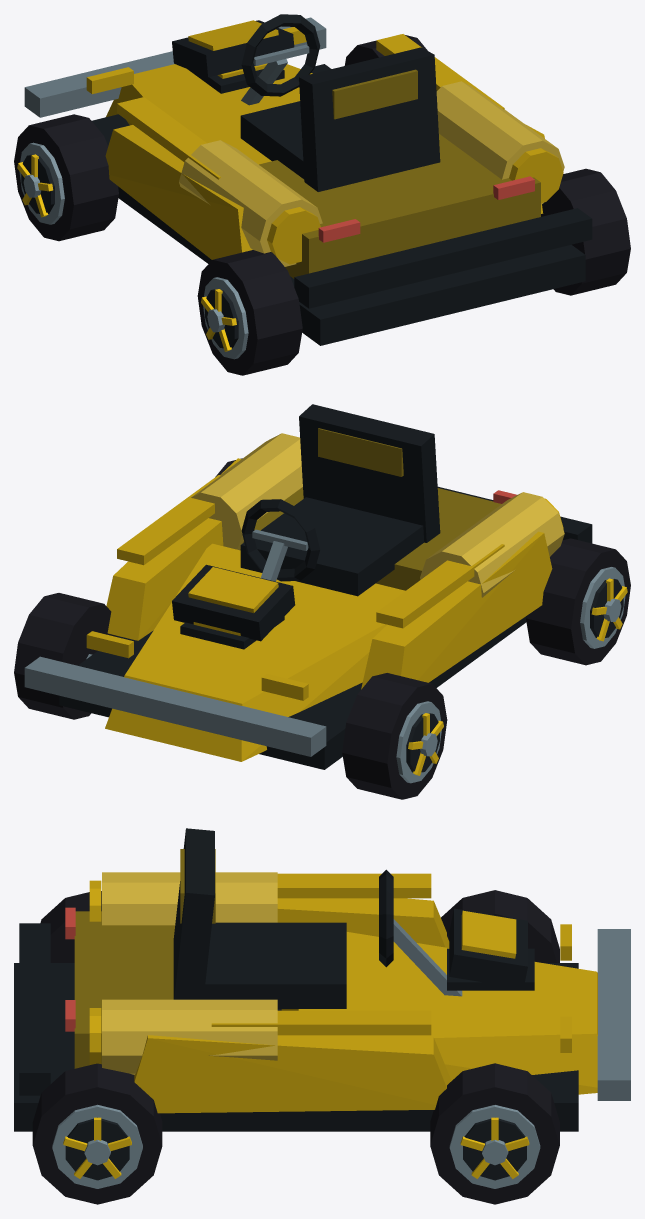
The model's file is kart.glb.
3 views of the same model, one above another, from view 1: azimuth 30°, elevation 25°; view 2: azimuth 150°, elevation 25°; view 3: azimuth 270°, elevation 25° (orthographic). The views are drawn at different scales.
Visible parts, largest first — view 1: chassis, wheel-rear-left, wheel-front-left, wheel-rear-right, wheel-front-right; view 2: chassis, wheel-front-left, wheel-rear-left, wheel-front-right; view 3: chassis, wheel-front-right, wheel-rear-right, wheel-front-left, wheel-rear-left.
Part boxes in pixels (x1,y1,x2,y2): chassis: [24, 14, 592, 345]; wheel-rear-left: [197, 250, 302, 375]; wheel-front-left: [14, 114, 118, 241]; wheel-rear-right: [541, 168, 630, 295]; wheel-front-right: [344, 35, 427, 65]; chassis: [24, 404, 592, 769]; wheel-front-left: [342, 673, 447, 799]; wheel-rear-left: [526, 538, 630, 665]; wheel-front-right: [14, 593, 117, 719]; chassis: [14, 828, 630, 1131]; wheel-front-right: [430, 1063, 559, 1204]; wheel-rear-right: [32, 1063, 162, 1204]; wheel-front-left: [441, 890, 559, 962]; wheel-rear-left: [40, 891, 101, 962].
Bounding box in the file's own units: 2.4 × 1.3 × 2.95.
